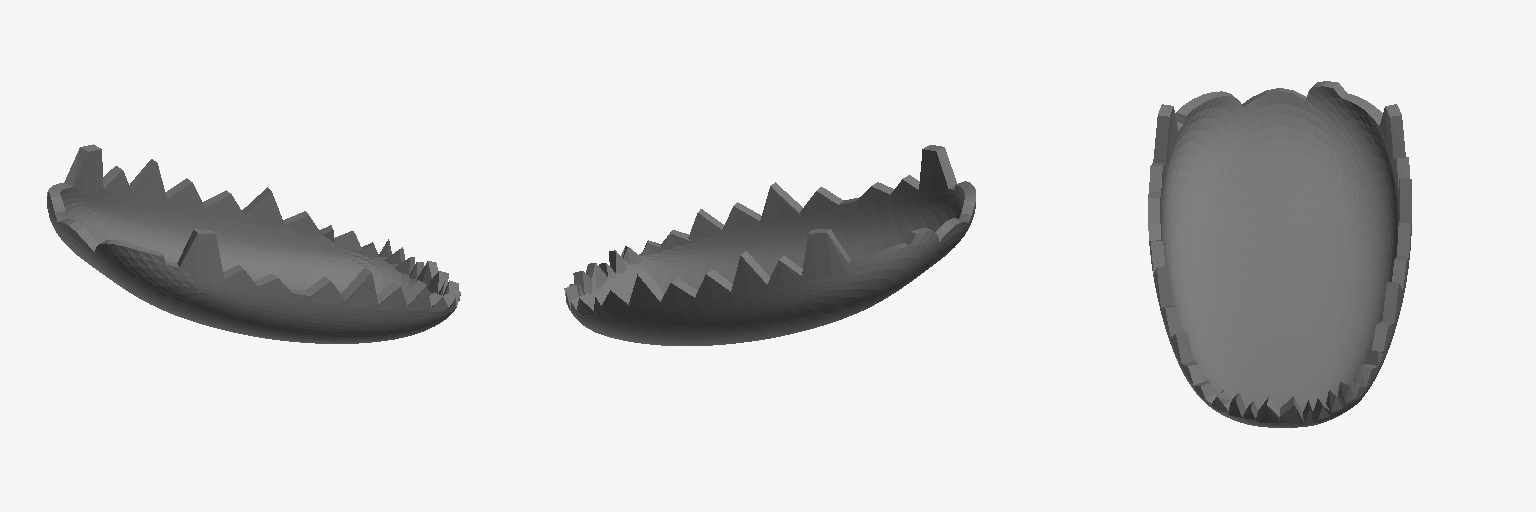
The model's file is MandibulaGoddard.obj.
The picture shows the model from 3 angles: view 1: azimuth 30°, elevation 25°; view 2: azimuth 150°, elevation 25°; view 3: azimuth 270°, elevation 25°; orthographic projection.
Visible parts, largest first — view 1: Mandibula; view 2: Mandibula; view 3: Mandibula.
Boxes of the visible parts, x1=… form: Mandibula: x1=47, y1=144, x2=460, y2=343; Mandibula: x1=564, y1=145, x2=975, y2=345; Mandibula: x1=1148, y1=81, x2=1411, y2=427.
Bounding box in the file's own units: 2.64 × 1.27 × 1.61.